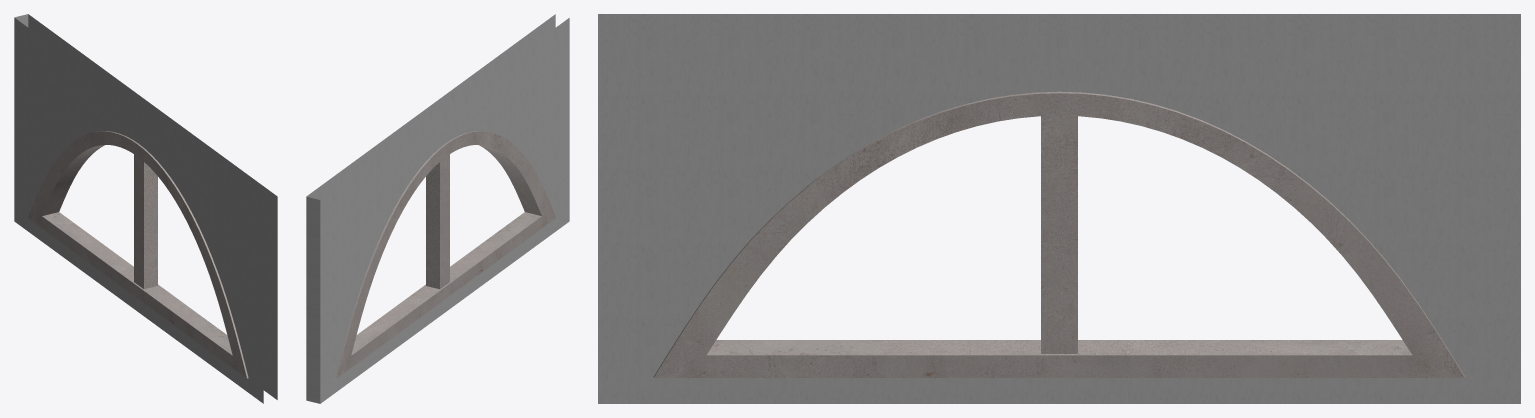
File: Divider_02.fbx
3 views of the same model, side by side, from view 1: azimuth 30°, elevation 25°; view 2: azimuth 150°, elevation 25°; view 3: azimuth 270°, elevation 25° (orthographic). The views are drawn at different scales.
Parts seen in each view (by area): view 1: Divider_02; view 2: Divider_02; view 3: Divider_02.
Boxes of the visible parts, left/top/right/bottom form: Divider_02: left=14, top=14, right=277, bottom=403; Divider_02: left=306, top=14, right=569, bottom=403; Divider_02: left=598, top=14, right=1520, bottom=403.
Bounding box in the file's own units: 39.81 × 451 × 1000.
